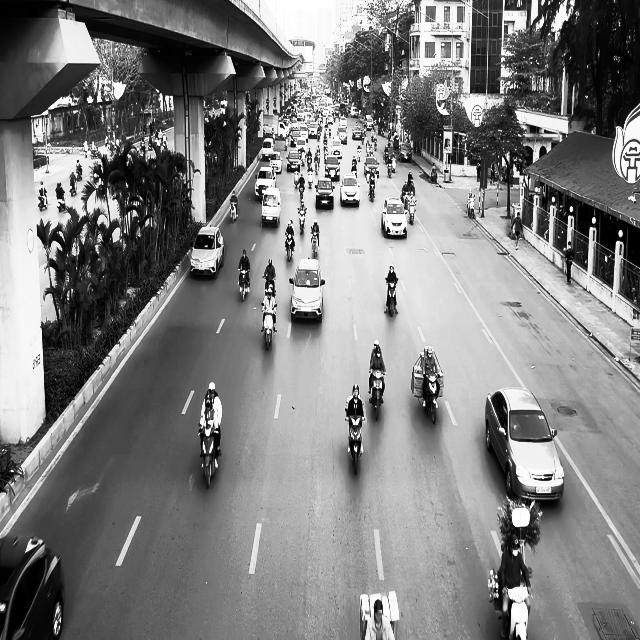car: (485, 387, 565, 502), (0, 534, 66, 640), (289, 257, 326, 322), (189, 226, 225, 278), (381, 197, 408, 238), (262, 186, 282, 228), (340, 172, 361, 206), (315, 177, 335, 209)
motorbike: (505, 578, 531, 639), (198, 424, 220, 488), (346, 413, 366, 475), (422, 371, 440, 424), (369, 369, 387, 421), (261, 302, 277, 350), (385, 278, 398, 317), (239, 268, 250, 301), (407, 196, 417, 225), (285, 233, 295, 261), (368, 175, 378, 201), (311, 229, 320, 257), (298, 207, 307, 233), (38, 189, 48, 210), (57, 192, 66, 212), (230, 202, 238, 222), (70, 176, 77, 196)
